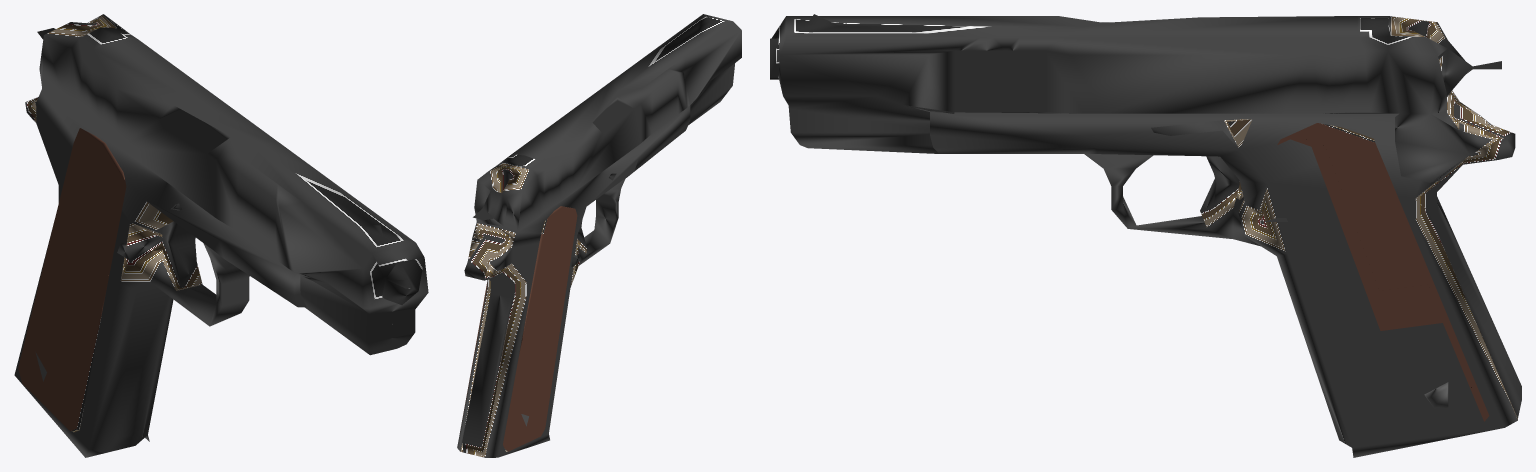
The picture shows the model from 3 angles, left to right: view 1: azimuth 30°, elevation 25°; view 2: azimuth 150°, elevation 25°; view 3: azimuth 270°, elevation 25°; orthographic projection. The views are drawn at different scales.
Bounding box in the file's own units: 0.0343 × 0.1822 × 0.2903.
1 material, 1 textured.
